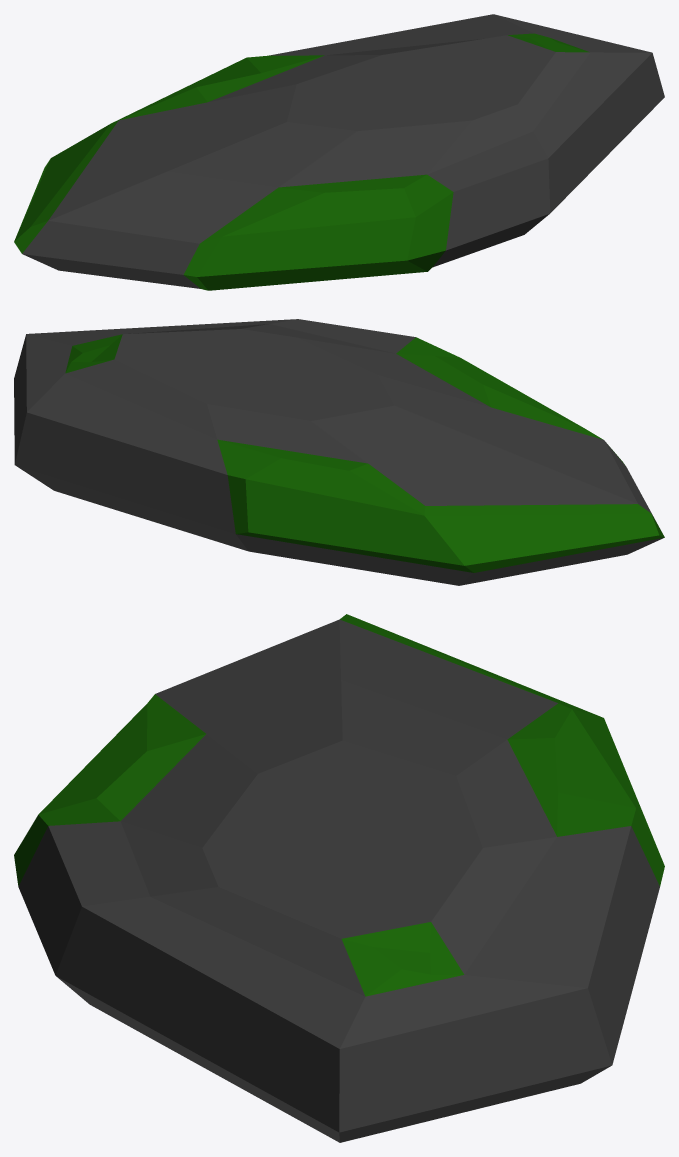
File: M_stone3.fbx
The picture shows the model from 3 angles, top to bottom: view 1: azimuth 30°, elevation 25°; view 2: azimuth 150°, elevation 25°; view 3: azimuth 270°, elevation 25°; orthographic projection. The views are drawn at different scales.
Parts seen in each view (by area): view 1: Plane; view 2: Plane; view 3: Plane.
Boxes of the visible parts, x1,y1,x2,y2 form: Plane: [14, 14, 664, 290]; Plane: [14, 319, 664, 585]; Plane: [14, 614, 664, 1142].
Size of the model in its own units: 227 by 32.89 by 127.
